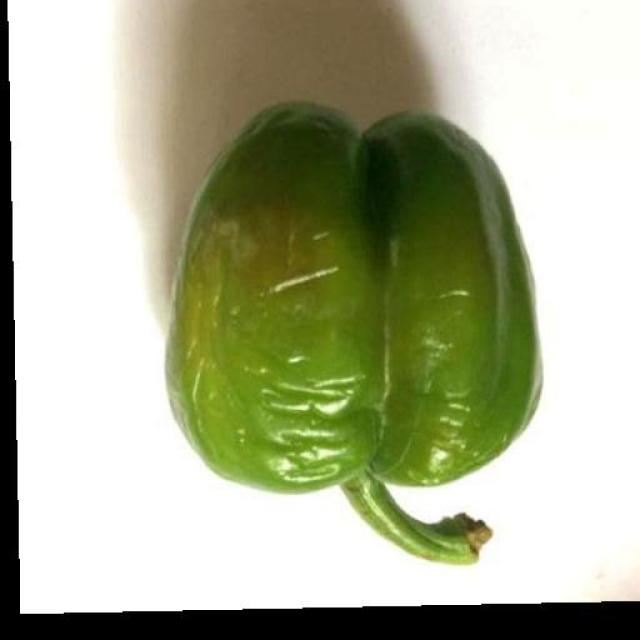Stale_Capsicum: (174, 118, 580, 526)
